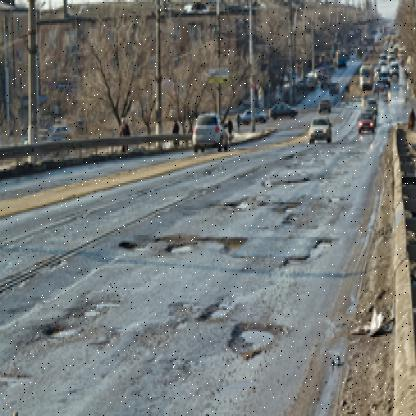damage: (35, 285, 121, 360), (108, 212, 208, 275), (276, 218, 347, 298)
pothole: (223, 304, 298, 379)
